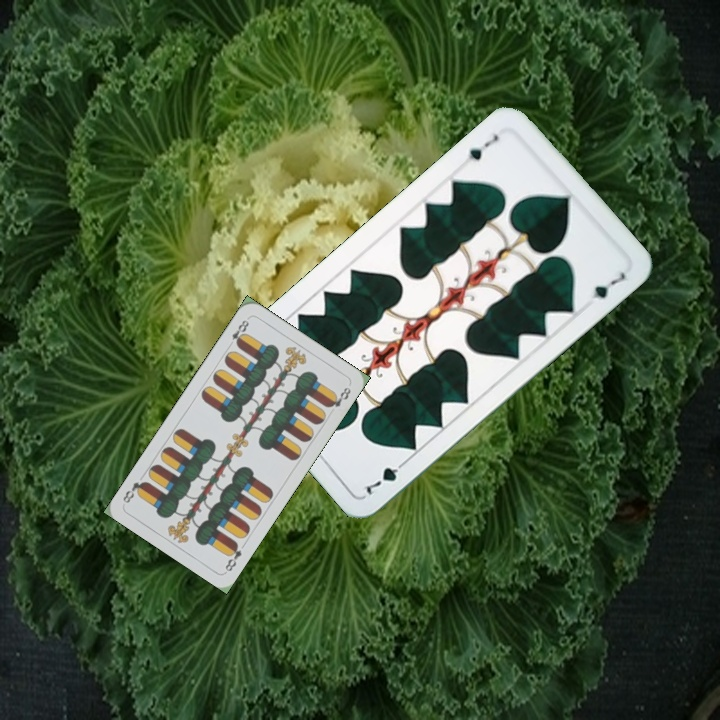E8: (224, 314, 252, 349), (221, 538, 245, 574)
G7: (359, 455, 411, 498), (464, 130, 502, 163)
